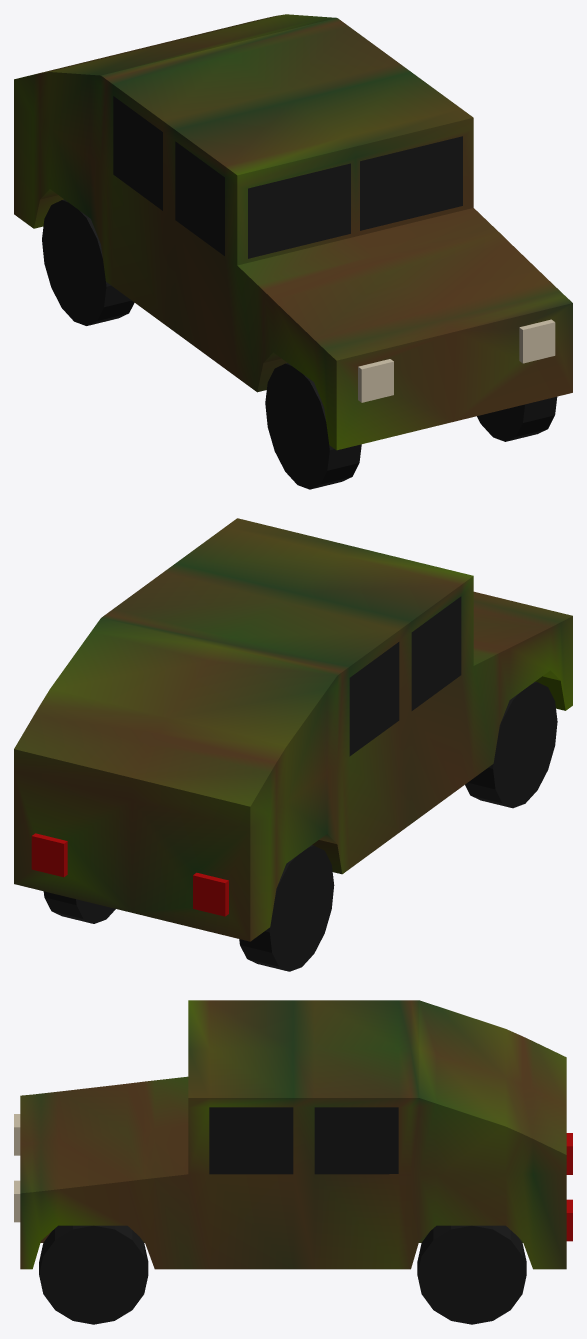
The model's file is Jeep.fbx.
3 views of the same model, one above another, from view 1: azimuth 30°, elevation 25°; view 2: azimuth 150°, elevation 25°; view 3: azimuth 270°, elevation 25° (orthographic). The views are drawn at different scales.
Parts seen in each view (by area): view 1: Jeep; view 2: Jeep; view 3: Jeep.
Boxes of the visible parts, x1,y1,x2,y2 form: Jeep: (14,14,572,489); Jeep: (14,518,572,971); Jeep: (14,1000,572,1324).
Bounding box in the file's own units: 82.5 × 90 × 199.
